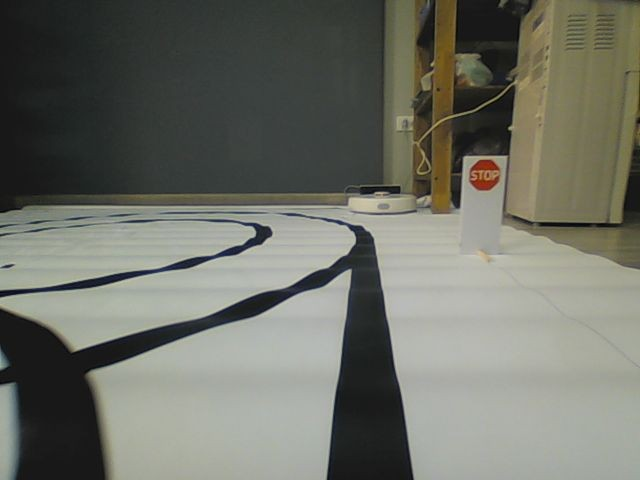Stop: (468, 159, 500, 192)
